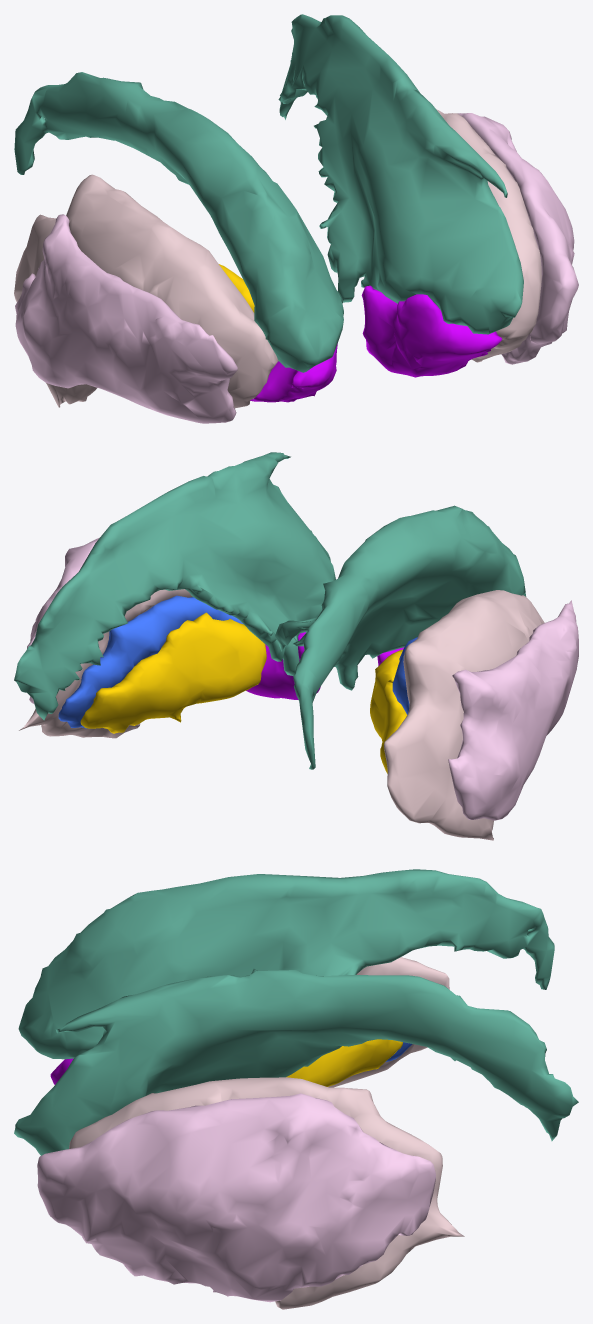
Rendered from basal-ganglia.lod1.glb.
3 views of the same model, one above another, from view 1: azimuth 30°, elevation 25°; view 2: azimuth 150°, elevation 25°; view 3: azimuth 270°, elevation 25° (orthographic). The views are drawn at different scales.
Parts seen in each view (by area): view 1: caudate-nucleus-l, caudate-nucleus-r, claustrum-r, putamen-r, claustrum-l, nucleus-accumbens-l, putamen-l, nucleus-accumbens-r; view 2: caudate-nucleus-l, caudate-nucleus-r, putamen-r, claustrum-r, globus-pallidus-pars-interna-l, globus-pallidus-pars-externa-l, putamen-l, globus-pallidus-pars-interna-r, nucleus-accumbens-l, claustrum-l, globus-pallidus-pars-externa-r; view 3: claustrum-l, caudate-nucleus-r, caudate-nucleus-l, putamen-l, globus-pallidus-pars-interna-r, putamen-r.
Boxes of the visible parts, left/top/right/bottom form: caudate-nucleus-l: left=278, top=14, right=523, bottom=334; caudate-nucleus-r: left=14, top=72, right=343, bottom=372; claustrum-r: left=15, top=214, right=237, bottom=423; putamen-r: left=14, top=174, right=278, bottom=408; claustrum-l: left=458, top=113, right=578, bottom=364; nucleus-accumbens-l: left=361, top=285, right=502, bottom=377; putamen-l: left=436, top=109, right=541, bottom=362; nucleus-accumbens-r: left=250, top=343, right=337, bottom=402; caudate-nucleus-l: left=14, top=452, right=335, bottom=720; caudate-nucleus-r: left=275, top=505, right=526, bottom=769; putamen-r: left=384, top=590, right=544, bottom=840; claustrum-r: left=448, top=600, right=578, bottom=820; globus-pallidus-pars-interna-l: left=80, top=612, right=266, bottom=733; globus-pallidus-pars-externa-l: left=58, top=595, right=243, bottom=728; putamen-l: left=19, top=589, right=192, bottom=738; globus-pallidus-pars-interna-r: left=370, top=649, right=407, bottom=773; nucleus-accumbens-l: left=246, top=632, right=320, bottom=699; claustrum-l: left=27, top=538, right=99, bottom=704; globus-pallidus-pars-externa-r: left=392, top=637, right=417, bottom=714; claustrum-l: left=37, top=1093, right=435, bottom=1302; caudate-nucleus-r: left=18, top=869, right=554, bottom=1059; caudate-nucleus-l: left=14, top=969, right=578, bottom=1155; putamen-l: left=69, top=1077, right=464, bottom=1309; globus-pallidus-pars-interna-r: left=286, top=1039, right=402, bottom=1086; putamen-r: left=328, top=957, right=449, bottom=1087.
Size of the model in its own units: 0.0738 by 0.04 by 0.07.
